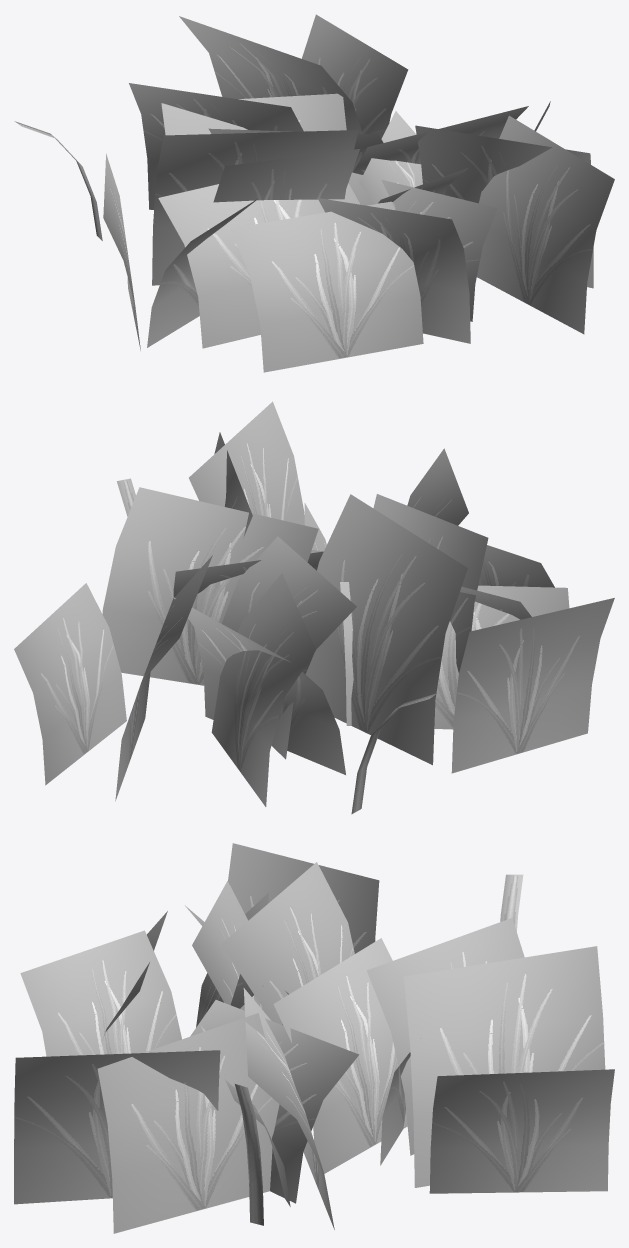
File: lawn.glb
The picture shows the model from 3 angles, top to bottom: view 1: azimuth 30°, elevation 25°; view 2: azimuth 150°, elevation 25°; view 3: azimuth 270°, elevation 25°; orthographic projection. The views are drawn at different scales.
Parts seen in each view (by area): view 1: grass-lawn; view 2: grass-lawn; view 3: grass-lawn.
Boxes of the visible parts, x1,y1,x2,y2 form: grass-lawn: (14,14,614,372); grass-lawn: (14,401,614,814); grass-lawn: (14,843,614,1233).
Size of the model in its own units: 0.5362 by 0.1906 by 0.552.
Materials: 1 (1 with a texture image).
